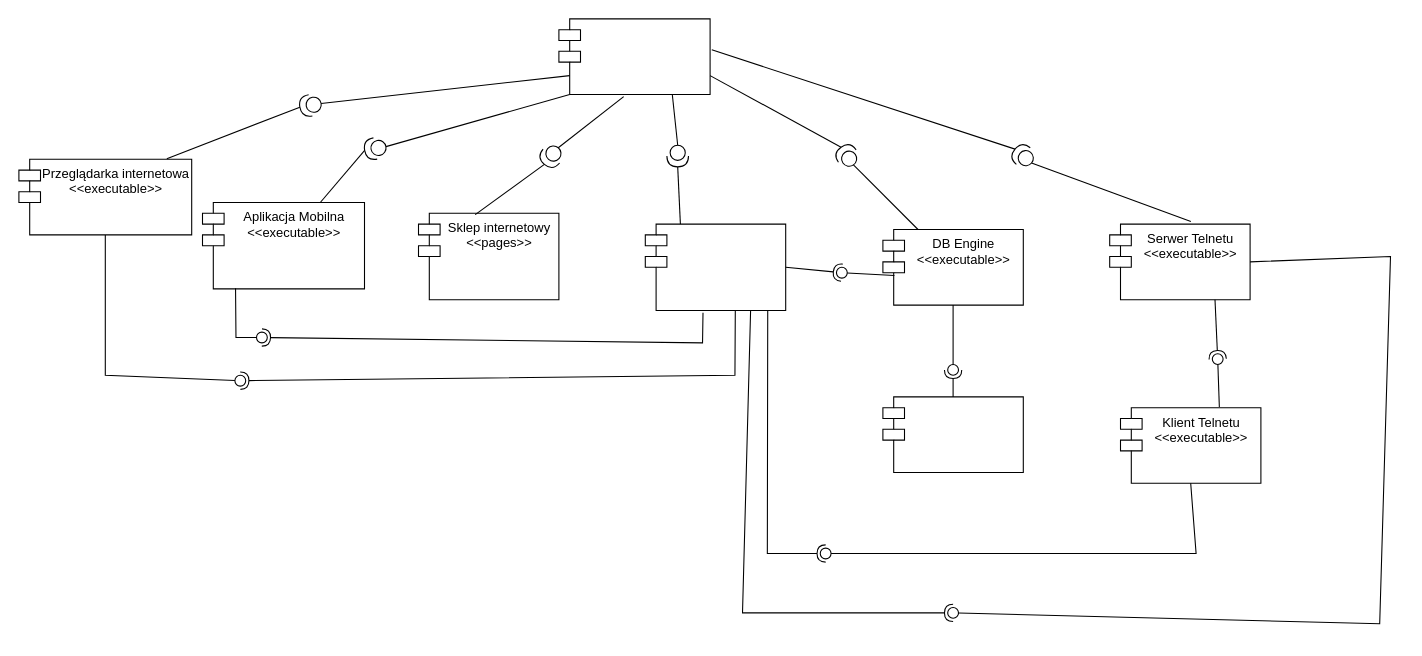
The diagram is 1422 pixels wide and 656 high, and some of its shapes have lost their labels. Each missing label, with the centre of its shape:
"Baza danych <<database>>" goes at pixel 952 434.
"Biblioteka SSL <<library>>" goes at pixel 715 266.
"Serwer WWW <<executable>>" goes at pixel 634 56.
